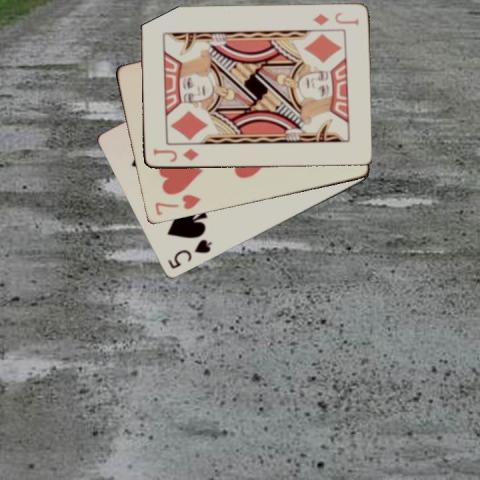5s: (165, 236, 213, 271)
7h: (151, 192, 203, 218)
Jd: (150, 145, 200, 164), (310, 10, 359, 27)
